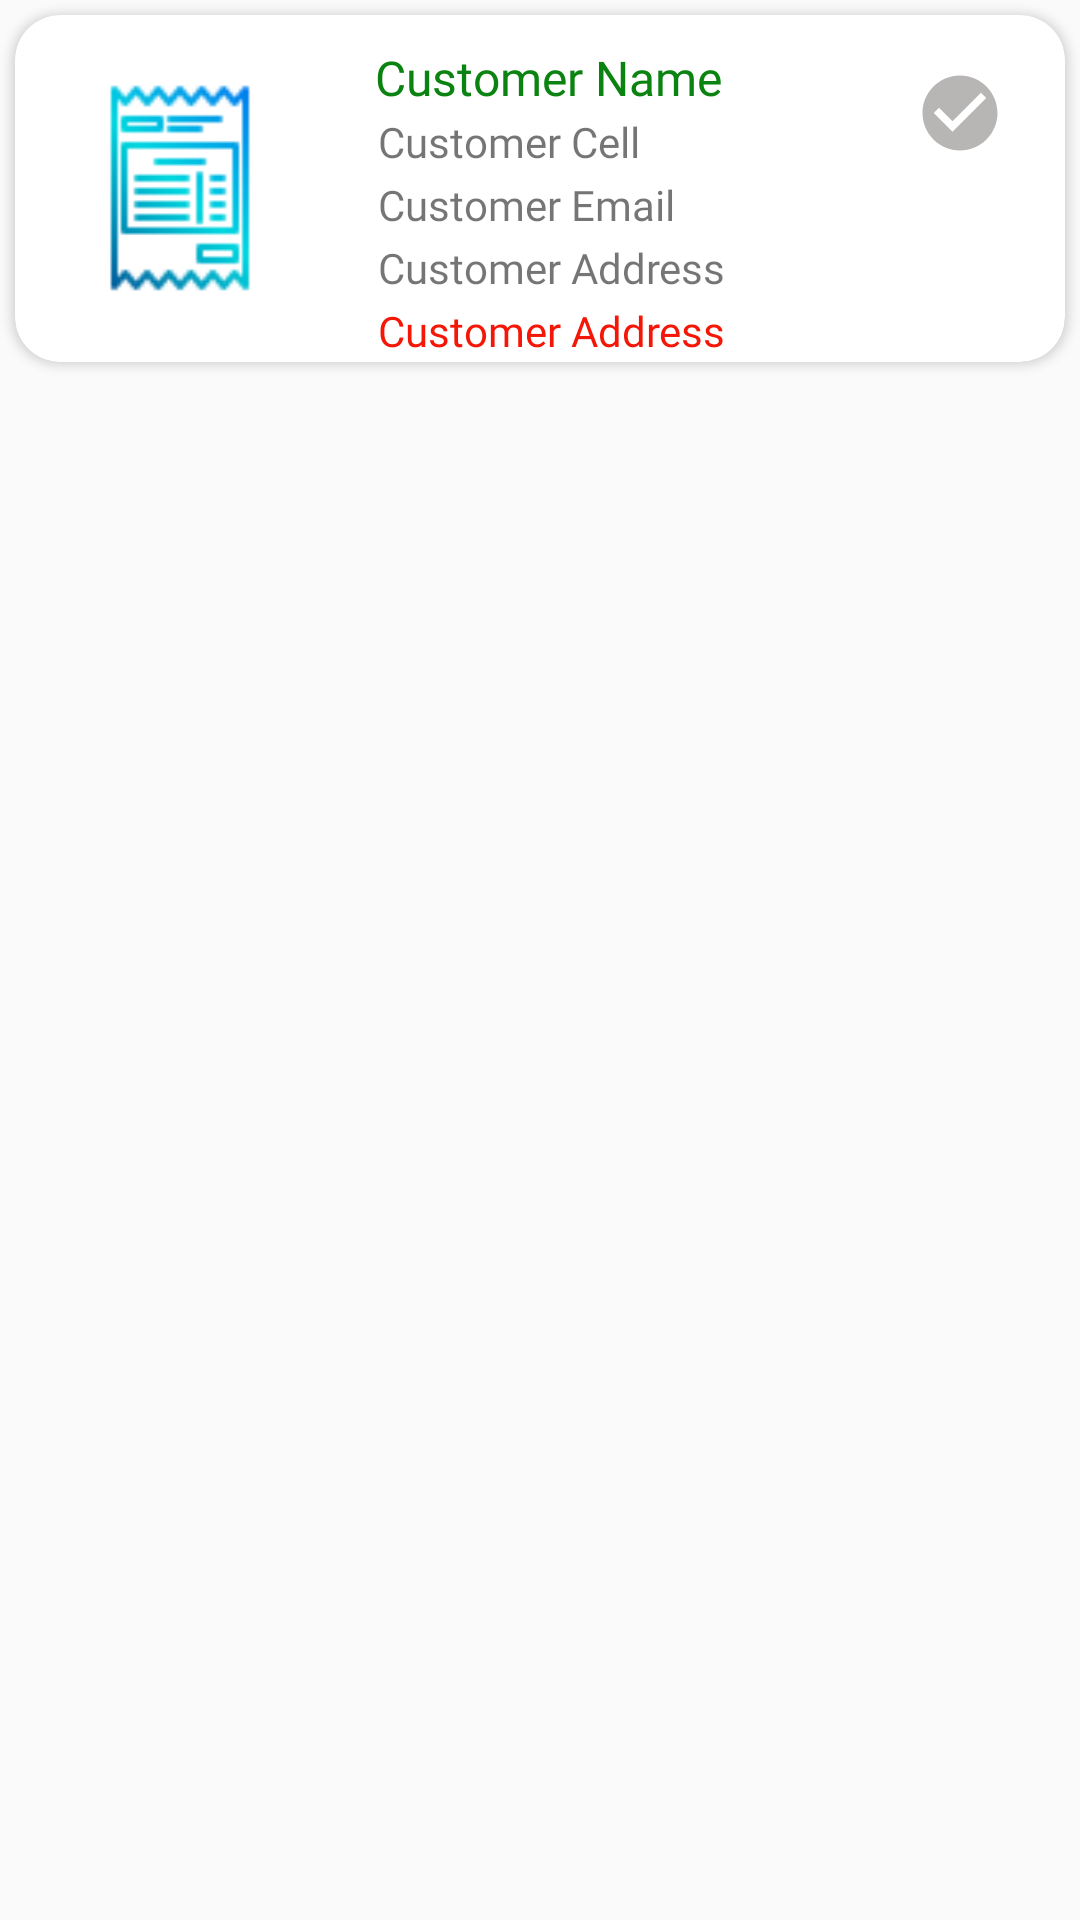

Screen size 1080×1920. Icon name, then its center in pixels as point (x, y):
check circle: point (960, 113)
